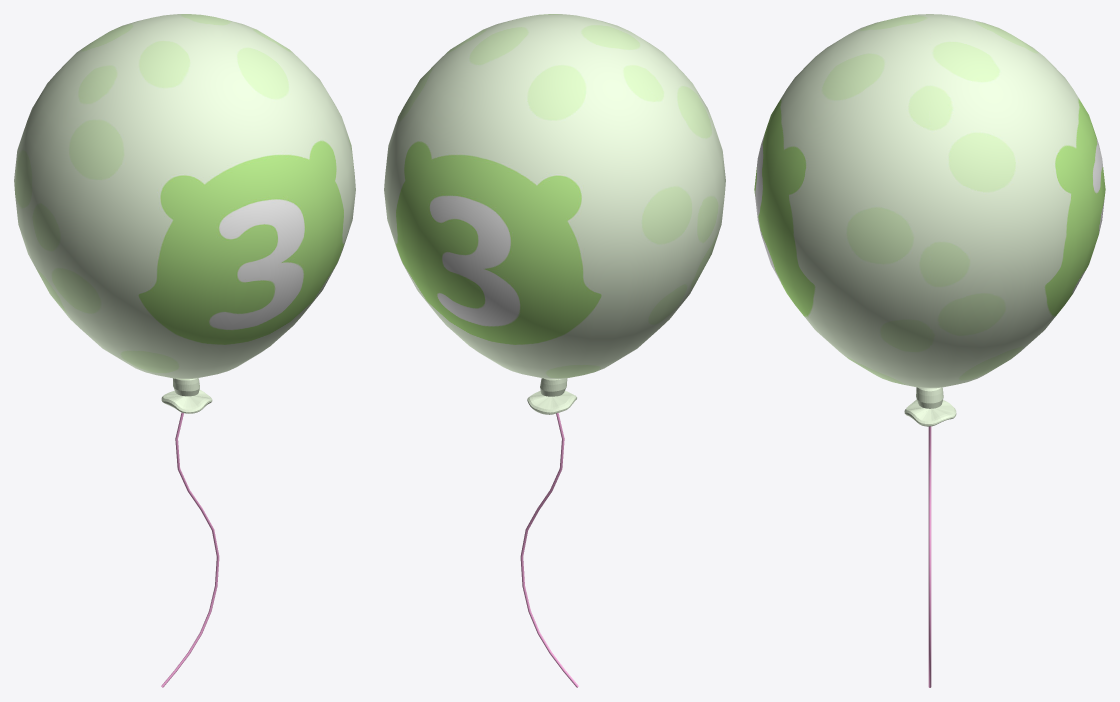
The model's file is balloon03_animation.glb.
The picture shows the model from 3 angles, left to right: view 1: azimuth 30°, elevation 25°; view 2: azimuth 150°, elevation 25°; view 3: azimuth 270°, elevation 25°; orthographic projection. The views are drawn at different scales.
Parts seen in each view (by area): view 1: Object001; view 2: Object001; view 3: Object001.
Boxes of the visible parts, x1,y1,x2,y2 form: Object001: [14, 14, 355, 687]; Object001: [384, 14, 725, 687]; Object001: [754, 14, 1105, 687].
Bounding box in the file's own units: 1.28 × 2.69 × 1.28.
2 materials, 2 textured.
